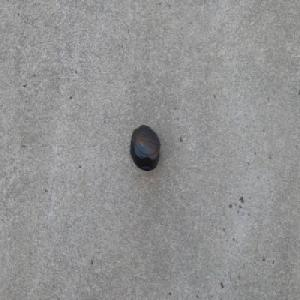FuelCap: (129, 125, 160, 171)
